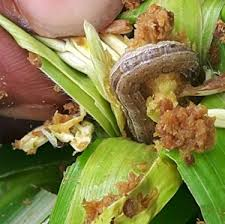Armyworm: (102, 35, 203, 145)
